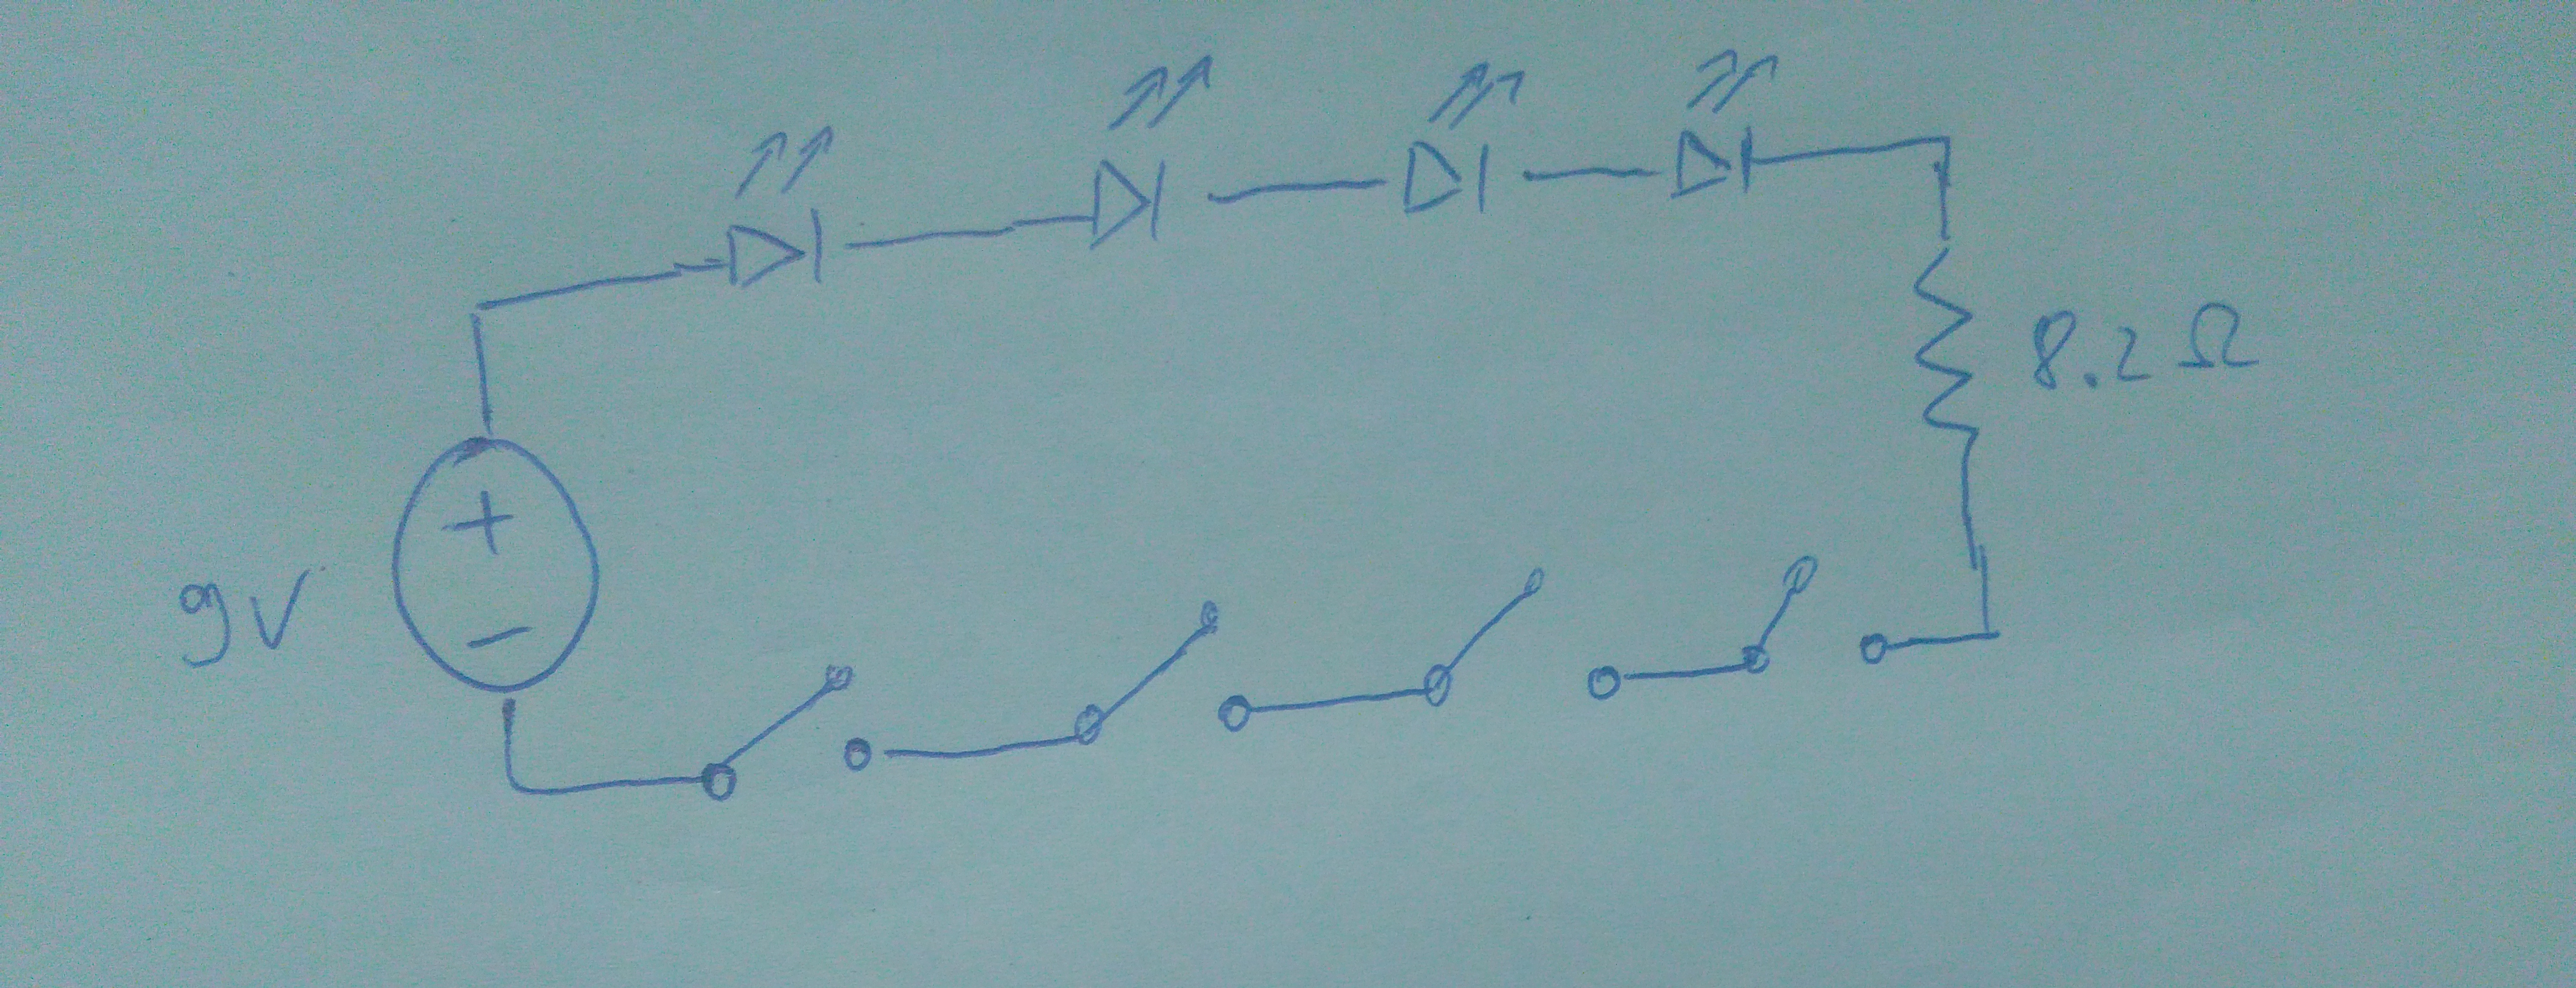diode.light_emitting: (1046, 48, 1235, 275), (672, 118, 890, 306), (1633, 39, 1825, 224), (1372, 49, 1548, 235)
junction: (448, 278, 516, 345), (490, 758, 549, 817), (1960, 607, 2019, 666), (1914, 123, 1965, 174)
resistor: (1884, 232, 1999, 487)
switch: (1050, 574, 1288, 768), (1398, 549, 1643, 728), (685, 636, 910, 812), (1725, 538, 1904, 700)
text: (2014, 291, 2297, 401), (168, 564, 329, 676)
voltage.dc: (370, 421, 628, 717)
